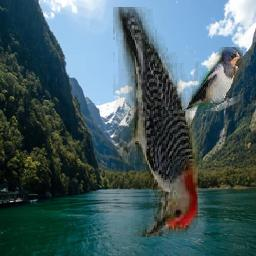Swallow: (183, 47, 244, 111)
Woodpecker: (114, 7, 199, 237)
